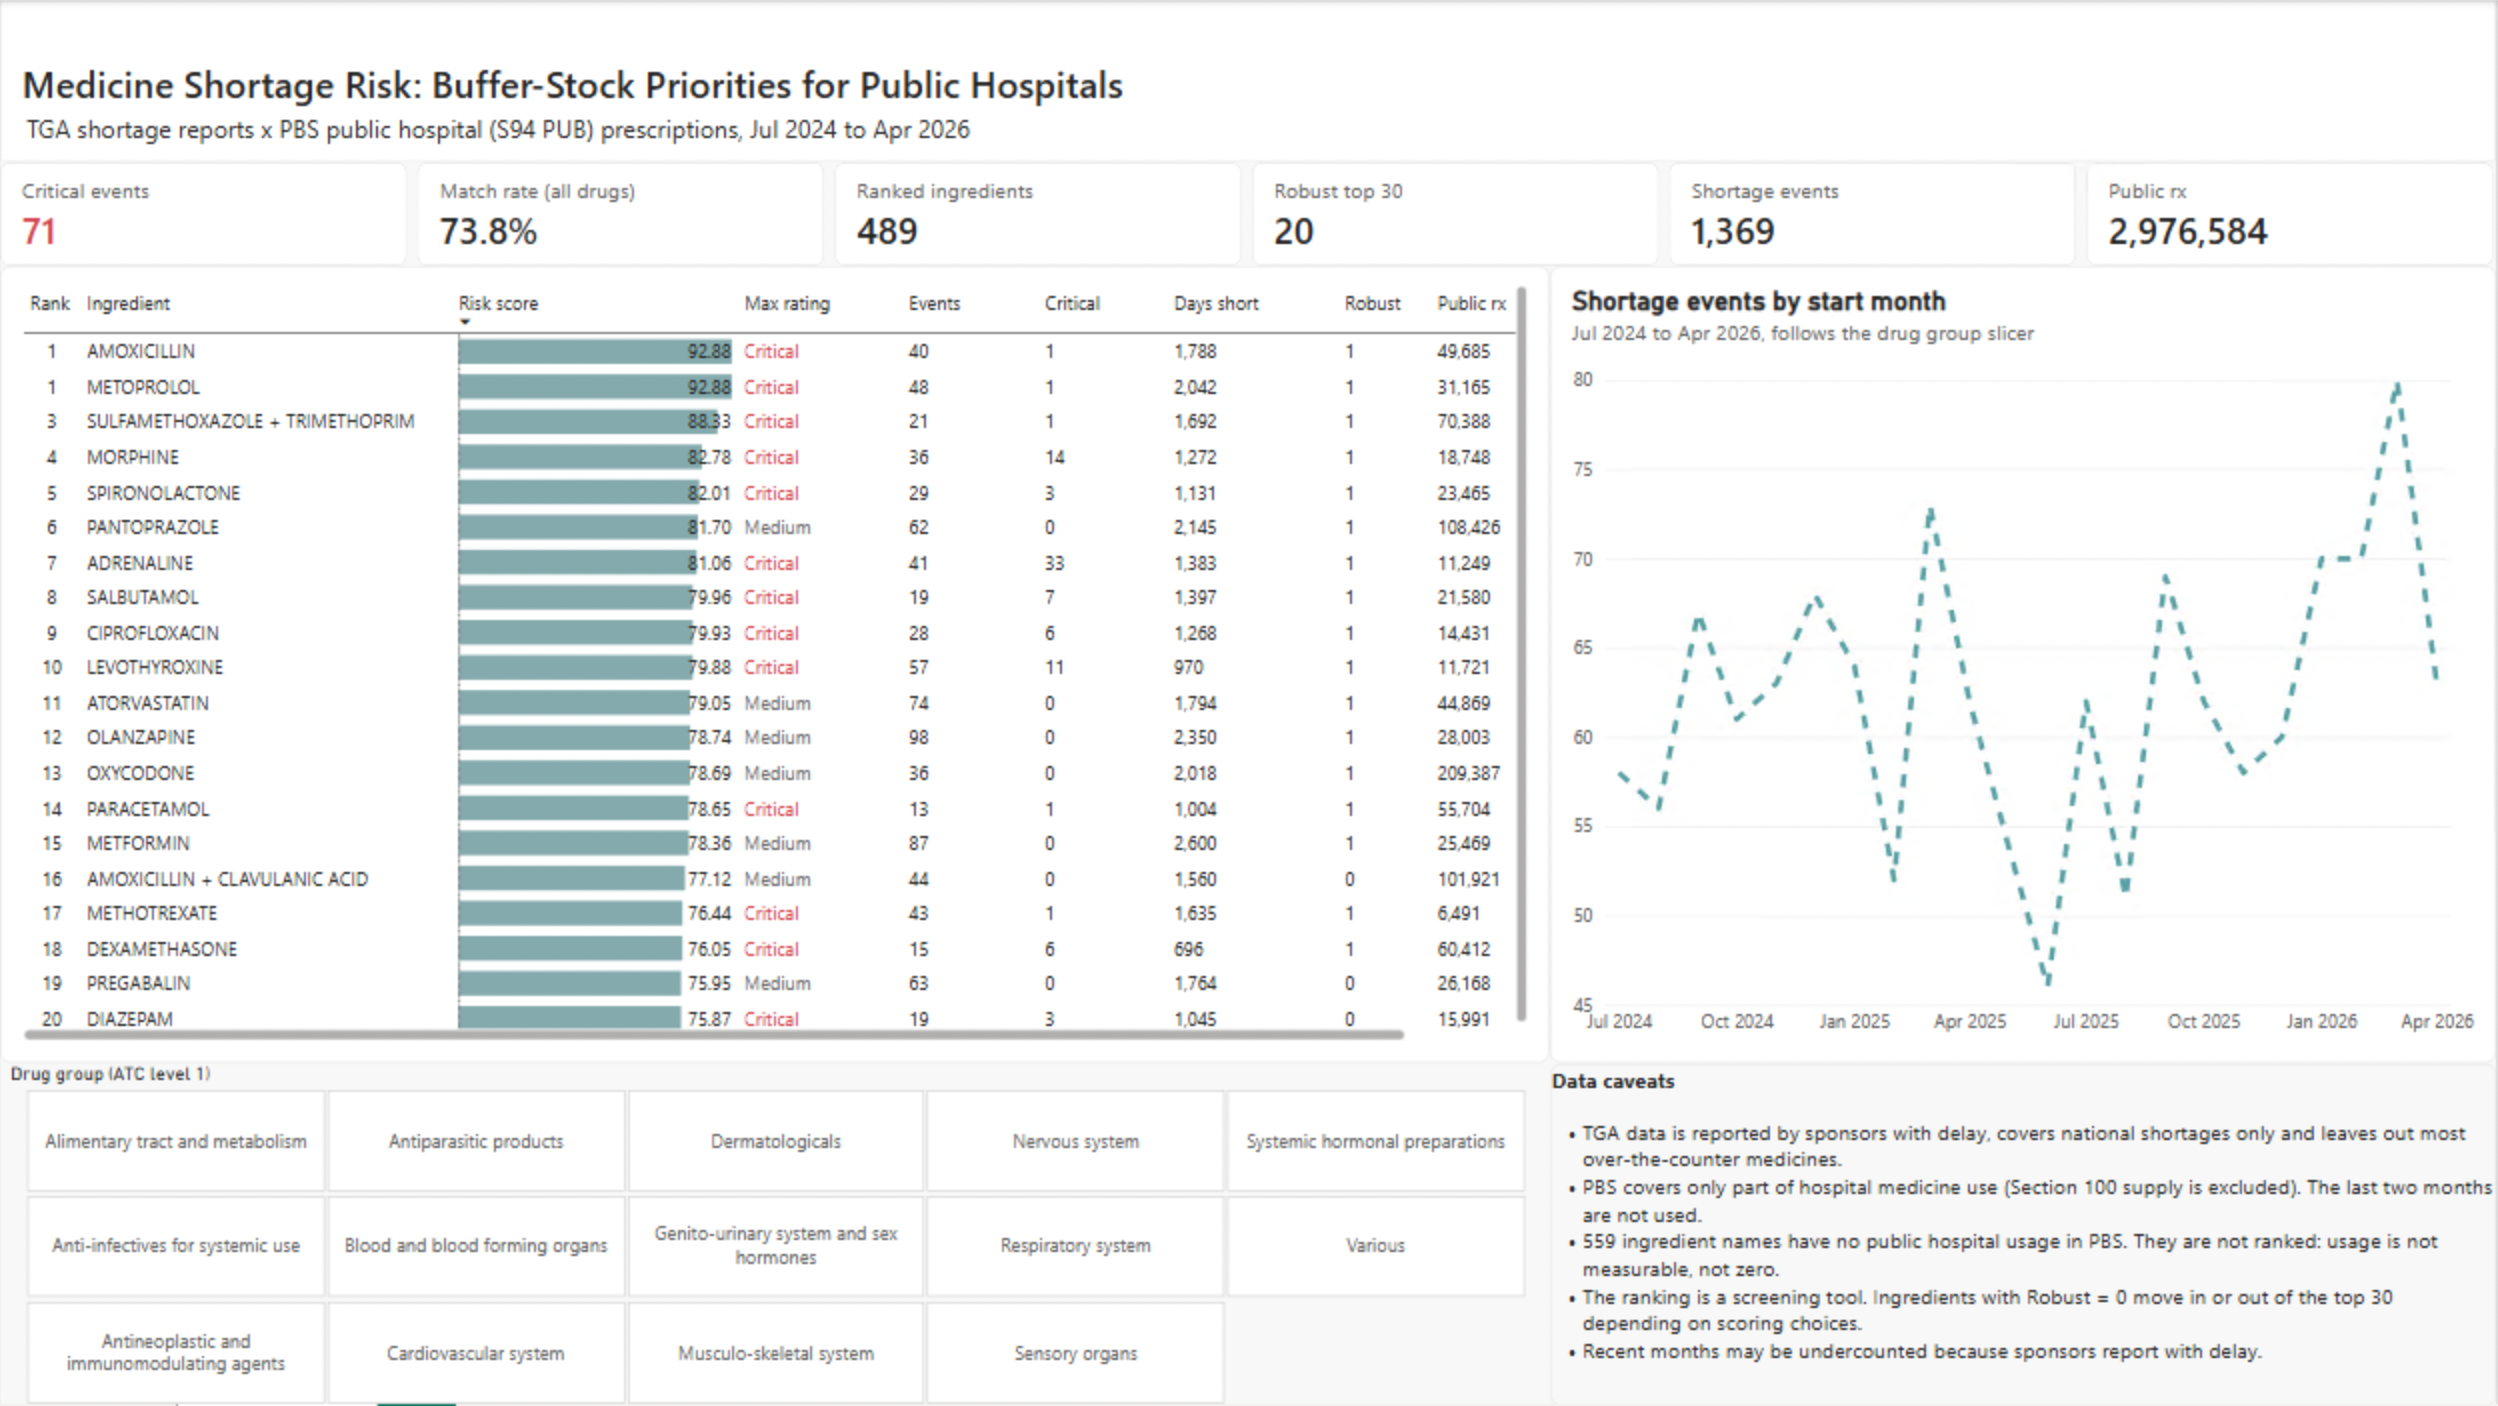

What the dashboard file says about the page in this screenshot:
{"tool":"powerbi","page":{"name":"Dashboard","canvas":[1920,1080],"ordinal":0},"visuals":[{"type":"slicer","fields":{"Values":["ATC.atc_group_name"]},"box":[0,818.2,1191.9,262.5],"z":0},{"type":"cardVisual","fields":{"Data":["Measures (2).Critical events","Measures (2).Match rate","Measures (2).Ranked ingredients","Measures (2).Robust top 30","Measures (2).Shortage events","Measures (2).Public rx"]},"box":[0,124.6,1920,80.5],"z":1000},{"type":"cardVisual","fields":{"Data":["Title Name (2).Dashboard Title"]},"box":[0,0,1920,124.6],"z":2000},{"type":"tableEx","fields":{"Values":["Sum(Ranking.risk_rank)","Ranking.ingredient_key","Sum(Ranking.risk_score)","Ranking.max_rating","Sum(Ranking.n_events)","Sum(Ranking.n_critical)","Sum(Ranking.total_duration_days)","Sum(Ranking.robust_top30)","Sum(Ranking.total_prescriptions)"]},"box":[0,205,1191.9,613.2],"z":3000},{"type":"lineChart","title":"Shortage events by start month","fields":{"Category":["Months.month"],"Y":["Measures (2).Shortage events"]},"box":[1191.9,205,728.1,613.2],"z":4000},{"type":"textbox","box":[1191.9,818.2,728.1,262.5],"z":5000},{"type":"textbox","box":[0,86.2,905,38.8],"z":5001}]}

Visuals, with their boxes in screenshot pixels (x1, y1, x2, y2), scaled from the page's 1920x1080 canvas onto the 2498x1406 screenshot:
slicer - ATC.atc_group_name: left=0, top=1065, right=1551, bottom=1405
cardVisual - Measures (2).Critical events x Measures (2).Match rate: left=0, top=162, right=2497, bottom=267
cardVisual - Title Name (2).Dashboard Title: left=0, top=0, right=2497, bottom=162
tableEx - Sum(Ranking.risk_rank) x Ranking.ingredient_key: left=0, top=267, right=1551, bottom=1065
"Shortage events by start month" lineChart: left=1551, top=267, right=2497, bottom=1065
textbox: left=1551, top=1065, right=2497, bottom=1405
textbox: left=0, top=112, right=1177, bottom=163
